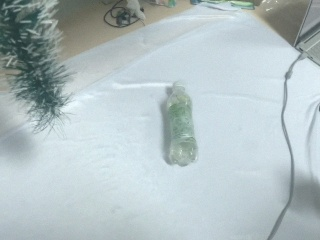bottle: (160, 81, 198, 168)
